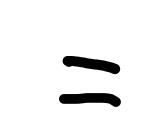eqv: (58, 56, 121, 107)
